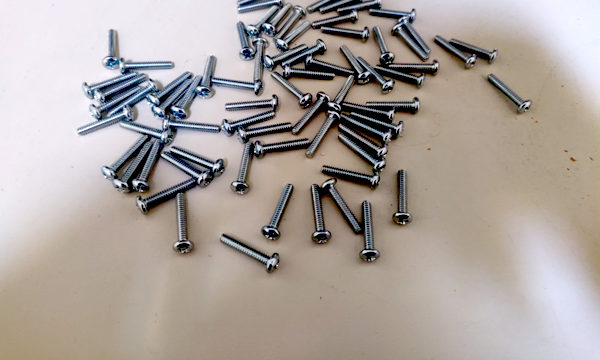longscrew: (320, 182, 364, 233), (219, 234, 277, 271), (89, 84, 143, 120), (133, 180, 197, 210), (108, 78, 161, 114), (114, 142, 152, 191), (77, 105, 137, 136), (104, 133, 145, 178), (161, 151, 211, 187), (490, 72, 533, 113), (154, 76, 197, 116), (358, 200, 383, 268), (389, 166, 414, 234), (170, 143, 224, 174), (339, 125, 389, 158), (341, 137, 390, 170), (265, 181, 291, 242), (432, 34, 478, 68), (309, 185, 333, 249), (320, 163, 381, 188), (173, 75, 206, 121), (272, 70, 311, 108), (307, 113, 339, 159), (95, 73, 147, 101), (149, 71, 194, 103), (358, 56, 395, 93), (297, 89, 327, 134), (376, 61, 426, 88), (256, 138, 314, 161), (139, 142, 165, 193), (400, 15, 433, 55), (239, 119, 296, 142), (352, 112, 404, 137), (340, 121, 393, 145), (392, 24, 428, 59), (223, 112, 280, 134), (339, 44, 370, 84), (83, 73, 134, 97), (119, 123, 174, 144), (280, 43, 326, 68), (233, 142, 254, 196), (195, 54, 220, 99), (344, 100, 397, 120), (367, 97, 420, 117), (212, 75, 267, 94), (453, 37, 498, 60), (175, 195, 191, 259), (372, 25, 398, 64), (162, 118, 221, 135), (330, 75, 357, 112), (275, 5, 306, 37), (235, 0, 289, 18), (248, 6, 280, 36), (308, 57, 354, 77), (275, 21, 309, 48), (309, 12, 362, 29), (286, 65, 336, 83), (372, 4, 417, 23), (267, 43, 308, 63), (223, 96, 284, 109), (322, 27, 370, 43), (251, 40, 269, 81), (265, 3, 291, 31), (106, 30, 122, 73), (120, 60, 176, 72), (239, 21, 254, 63), (338, 0, 382, 14), (391, 60, 441, 72), (320, 0, 360, 12), (306, 0, 346, 11), (235, 0, 284, 6)
